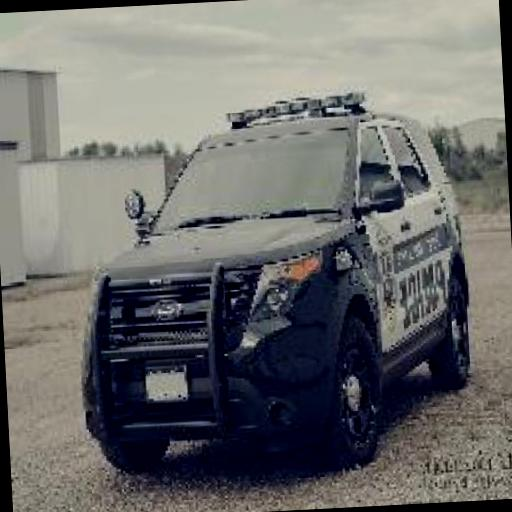Ambulance: (64, 80, 482, 478)
